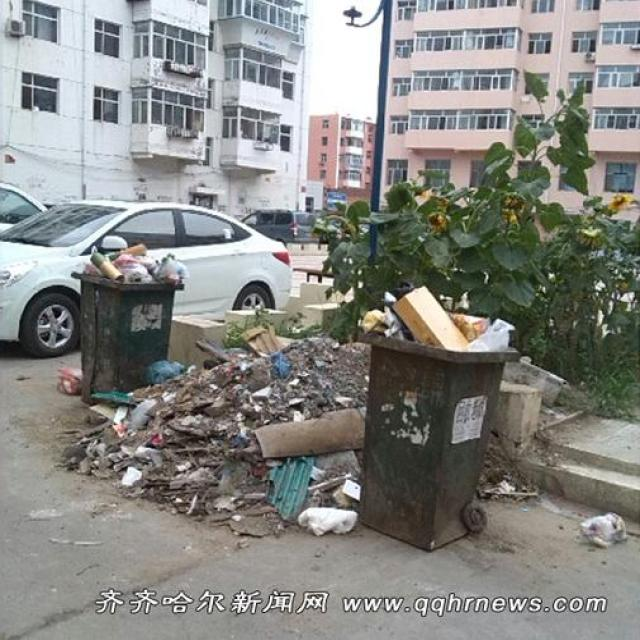garbage: (53, 324, 364, 539)
overflow: (354, 284, 518, 549), (71, 243, 184, 399)
